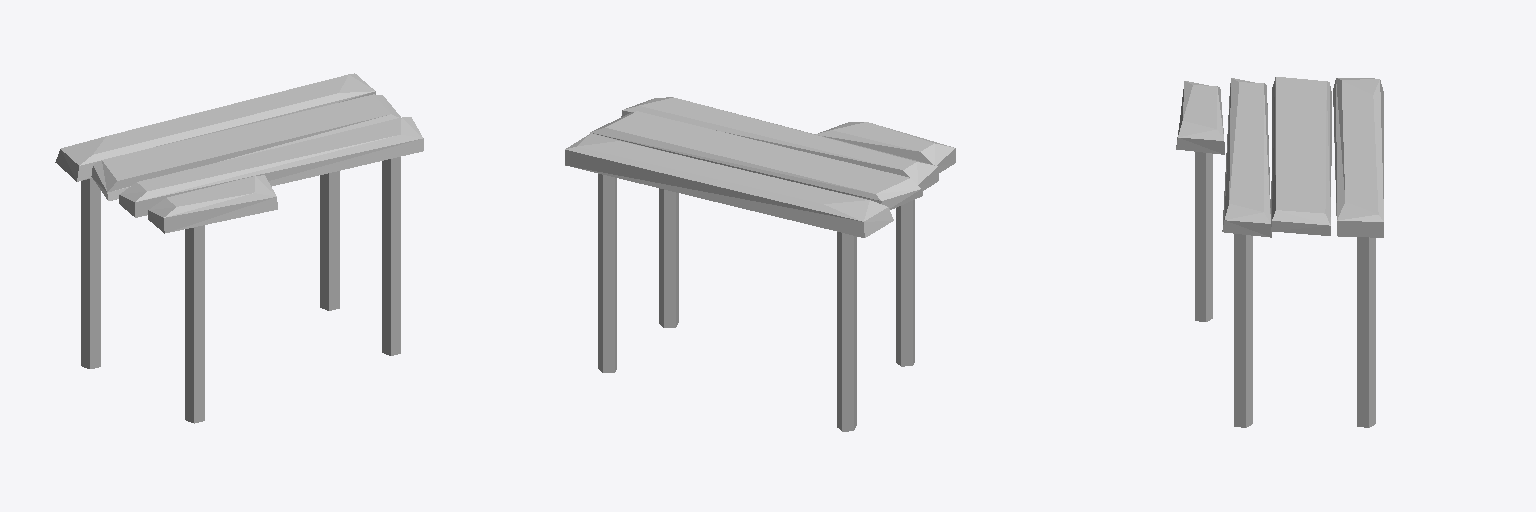
The model's file is Worktable.obj.
3 views of the same model, side by side, from view 1: azimuth 30°, elevation 25°; view 2: azimuth 150°, elevation 25°; view 3: azimuth 270°, elevation 25° (orthographic).
Visible parts, largest first — view 1: Cube.017; view 2: Cube.017; view 3: Cube.017.
Part boxes in pixels (left/top/right/bottom): Cube.017: left=55, top=73, right=423, bottom=423; Cube.017: left=565, top=97, right=955, bottom=431; Cube.017: left=1176, top=77, right=1383, bottom=427.
Bounding box in the file's own units: 2.91 × 2.02 × 1.72.